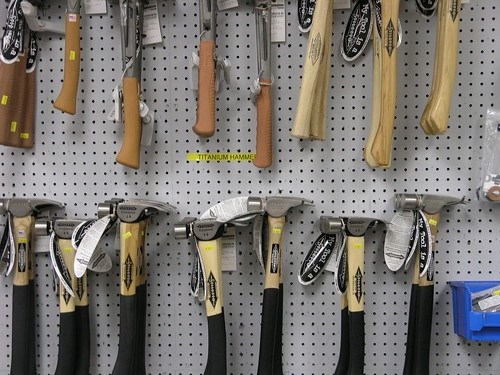hammer: (92, 195, 171, 375), (394, 189, 463, 375), (174, 212, 245, 375), (247, 196, 311, 375), (38, 218, 106, 375), (320, 212, 382, 375), (1, 195, 52, 375)
